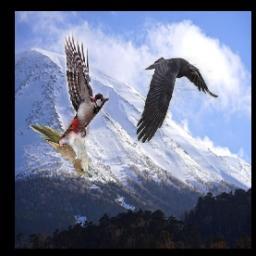Crow: (137, 56, 219, 143)
Cuckoo: (30, 124, 93, 179)
Woodpecker: (59, 31, 110, 141)
